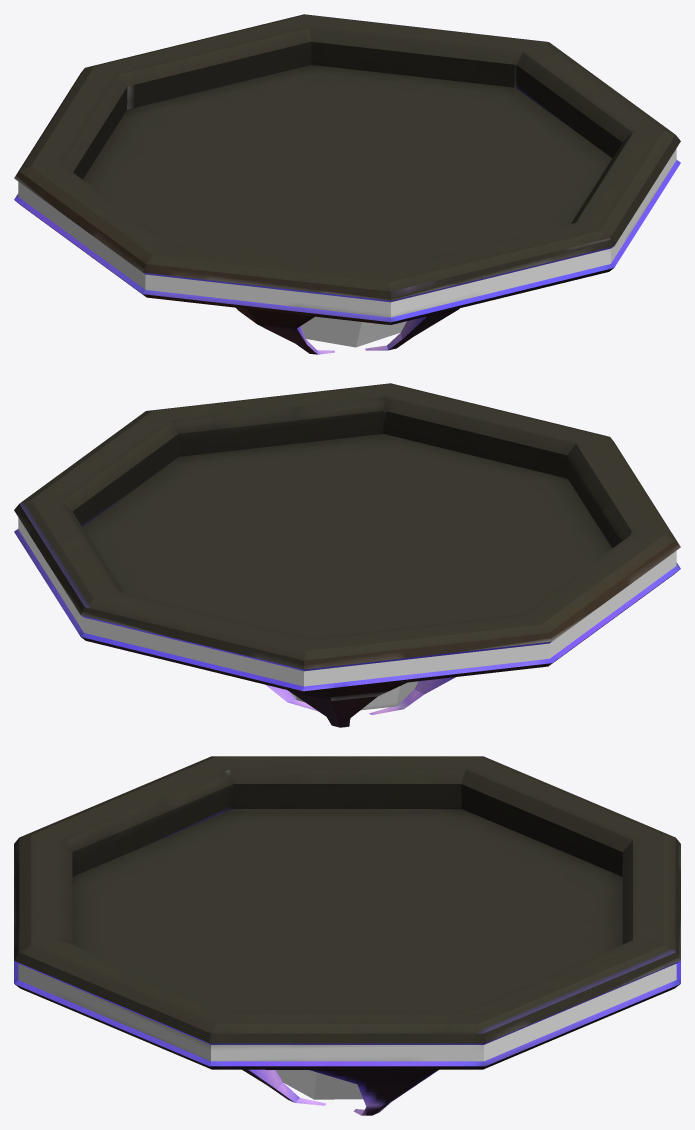
File: scene_gameboard.fbx
The picture shows the model from 3 angles, top to bottom: view 1: azimuth 30°, elevation 25°; view 2: azimuth 150°, elevation 25°; view 3: azimuth 270°, elevation 25°; orthographic projection. The views are drawn at different scales.
Visible parts, largest first — view 1: GameBoard; view 2: GameBoard; view 3: GameBoard.
Part boxes in pixels (box(x1,y1,x2,y2)): GameBoard: box(14, 14, 680, 354); GameBoard: box(14, 383, 680, 727); GameBoard: box(14, 756, 680, 1115).
Size of the model in its own units: 1.21 by 0.4194 by 1.21.
